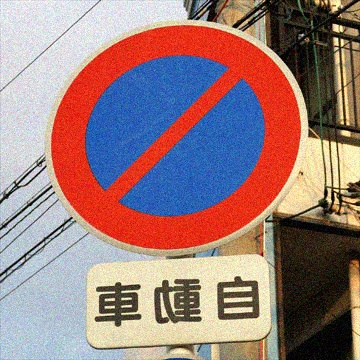Prohibition_sign: (31, 15, 312, 248)
